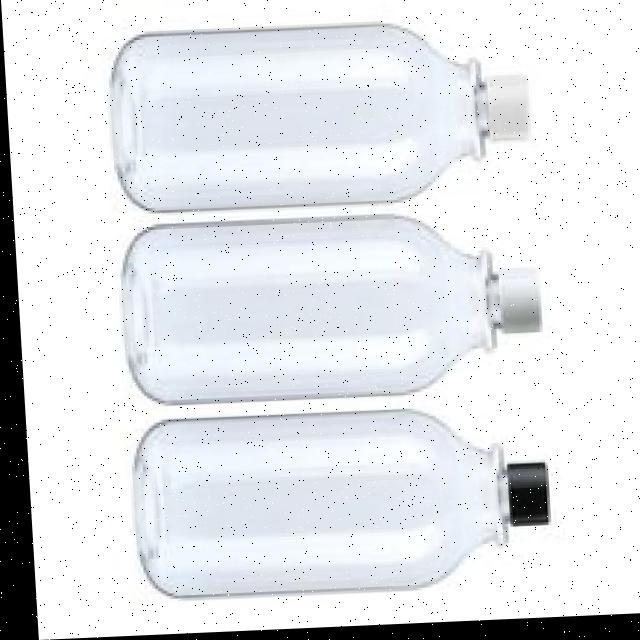bottle: (76, 22, 546, 224), (112, 410, 564, 615), (84, 220, 552, 414)
